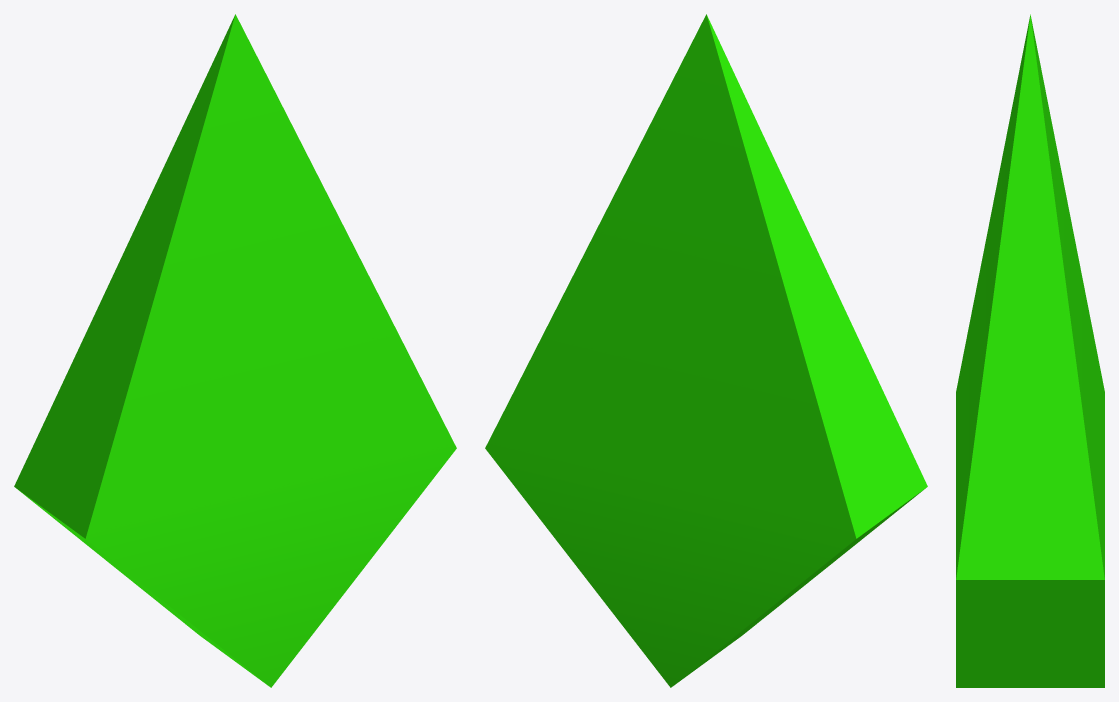
The model's file is Crystal.fbx.
3 views of the same model, side by side, from view 1: azimuth 30°, elevation 25°; view 2: azimuth 150°, elevation 25°; view 3: azimuth 270°, elevation 25° (orthographic). The views are drawn at different scales.
Visible parts, largest first — view 1: pCube2; view 2: pCube2; view 3: pCube2.
Boxes of the visible parts, x1,y1,x2,y2 form: pCube2: (14,14,456,687); pCube2: (485,14,927,687); pCube2: (956,14,1104,687).
Size of the model in its own units: 3 by 5 by 1.
